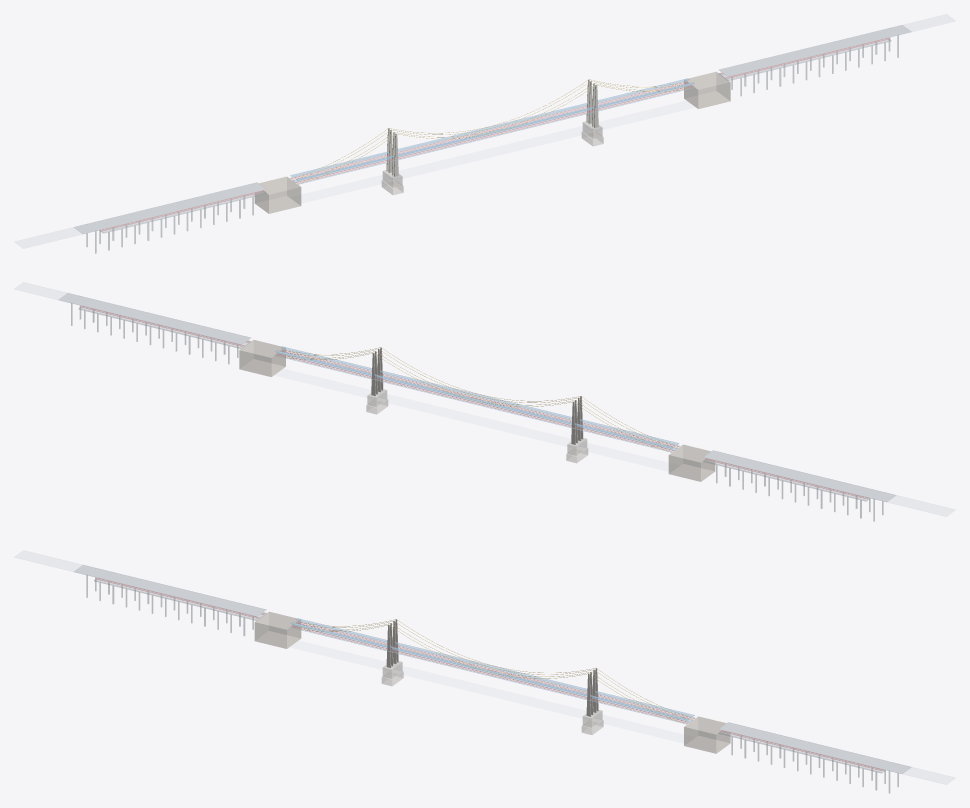
File: control_skeleton.glb
3 views of the same model, one above another, from view 1: azimuth 30°, elevation 25°; view 2: azimuth 150°, elevation 25°; view 3: azimuth 330°, elevation 25° (orthographic).
Parts seen in each view (by area): view 1: brooklyn_approach_upper_deck, manhattan_approach_upper_deck, brooklyn_anchorage, manhattan_anchorage, brooklyn_approach_bents, manhattan_approach_bents, brooklyn_approach_lower_deck, manhattan_approach_lower_deck, lower_roadway_envelope_main_span, footwalk_south, manhattan_approach, upper_roadway_manhattan_bound_main_span; view 2: brooklyn_approach_upper_deck, manhattan_approach_upper_deck, brooklyn_anchorage, manhattan_anchorage, brooklyn_approach_bents, manhattan_approach_bents, brooklyn_approach_lower_deck, manhattan_approach_lower_deck, lower_roadway_envelope_main_span, footwalk_north, upper_roadway_manhattan_bound_main_span, manhattan_approach; view 3: manhattan_approach_upper_deck, brooklyn_approach_upper_deck, manhattan_anchorage, brooklyn_anchorage, brooklyn_approach_bents, manhattan_approach_bents, manhattan_approach_lower_deck, brooklyn_approach_lower_deck, lower_roadway_envelope_main_span, footwalk_south, manhattan_approach.
Boxes of the visible parts, x1,y1,x2,y2 form: brooklyn_approach_upper_deck: (719,25,910,76); manhattan_approach_upper_deck: (74,182,265,233); brooklyn_anchorage: (684,72,730,108); manhattan_anchorage: (254,176,301,213); brooklyn_approach_bents: (731,28,898,96); manhattan_approach_bents: (86,197,253,253); brooklyn_approach_lower_deck: (719,38,891,80); manhattan_approach_lower_deck: (99,191,266,233); lower_roadway_envelope_main_span: (398,108,592,157); footwalk_south: (298,87,695,184); manhattan_approach: (15,227,81,248); upper_roadway_manhattan_bound_main_span: (398,102,589,150); brooklyn_approach_upper_deck: (59,293,250,344); manhattan_approach_upper_deck: (704,450,895,501); brooklyn_anchorage: (239,340,285,376); manhattan_anchorage: (668,444,715,481); brooklyn_approach_bents: (71,296,238,364); manhattan_approach_bents: (716,465,883,521); brooklyn_approach_lower_deck: (78,306,250,348); manhattan_approach_lower_deck: (703,459,870,501); lower_roadway_envelope_main_span: (377,376,571,425); footwalk_north: (274,355,671,452); upper_roadway_manhattan_bound_main_span: (375,374,571,424); manhattan_approach: (838,481,954,516); manhattan_approach_upper_deck: (74,565,266,616); brooklyn_approach_upper_deck: (719,722,910,773); manhattan_anchorage: (254,611,301,648); brooklyn_anchorage: (684,716,730,753); brooklyn_approach_bents: (731,737,898,793); manhattan_approach_bents: (86,574,253,636); manhattan_approach_lower_deck: (94,578,266,620); brooklyn_approach_lower_deck: (719,730,885,773); lower_roadway_envelope_main_span: (393,647,587,696); footwalk_south: (290,627,686,724); manhattan_approach: (15,551,81,571).
Size of the model in its own units: 2089 by 127 by 55.47.
